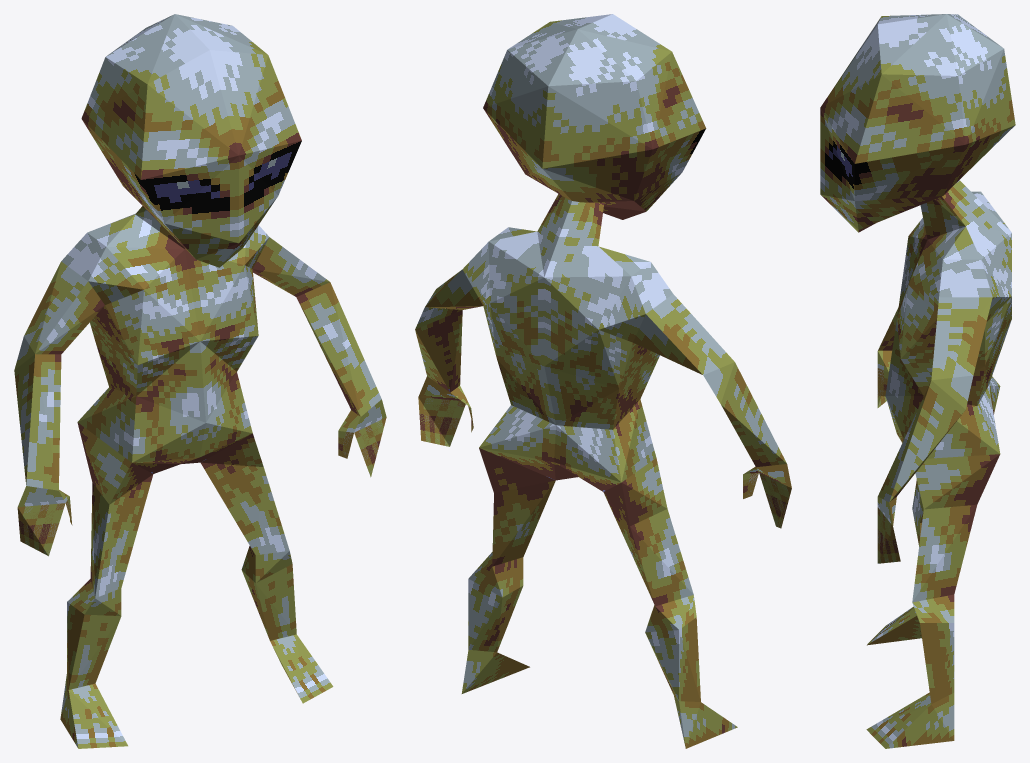
The model's file is Alien.fbx.
3 renders of one model, left to right at view 1: azimuth 30°, elevation 25°; view 2: azimuth 150°, elevation 25°; view 3: azimuth 270°, elevation 25°, orthographic. The views are drawn at different scales.
Visible parts, largest first — view 1: Alien; view 2: Alien; view 3: Alien.
Part boxes in pixels (bbox=[...]): Alien: bbox=[14, 14, 386, 748]; Alien: bbox=[415, 14, 791, 748]; Alien: bbox=[820, 14, 1015, 748].
Bounding box in the file's own units: 1.02 × 1.8 × 0.4732.
2 materials, 2 textured.
